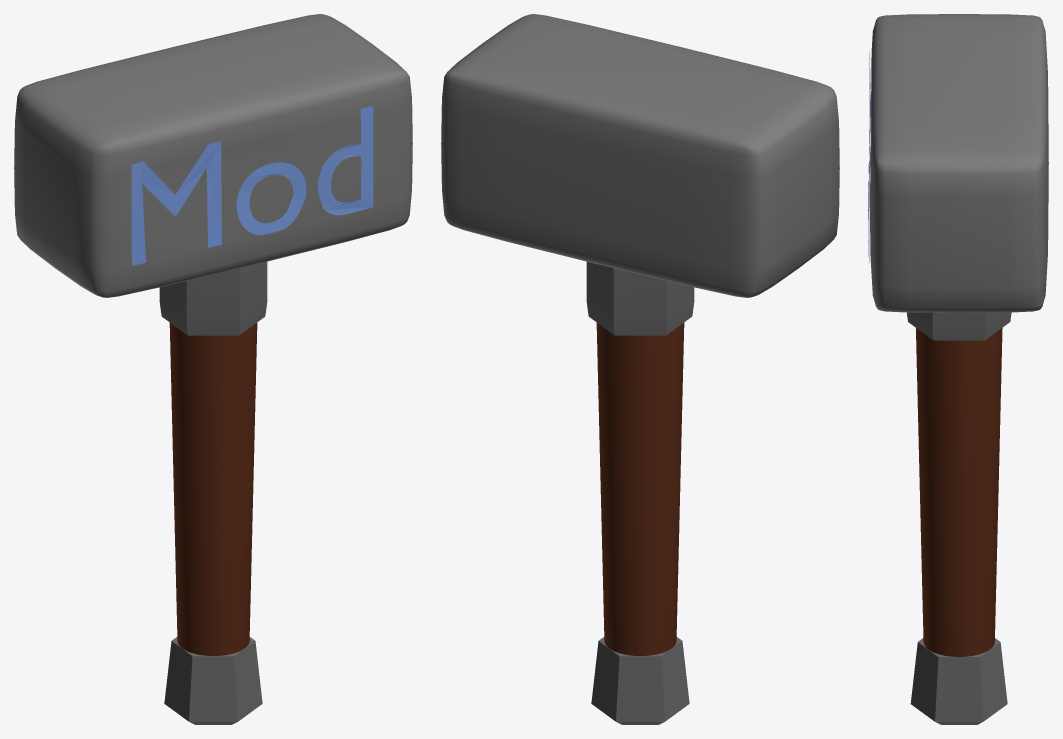
The model's file is Mod Hammer.fbx.
The picture shows the model from 3 angles, left to right: view 1: azimuth 30°, elevation 25°; view 2: azimuth 150°, elevation 25°; view 3: azimuth 270°, elevation 25°; orthographic projection.
Parts seen in each view (by area): view 1: Cube, Text; view 2: Cube; view 3: Cube, Text.
Part boxes in pixels (x1,y1,x2,y2): Cube: (14, 14, 412, 724); Text: (131, 106, 373, 265); Cube: (441, 14, 839, 724); Cube: (870, 14, 1048, 724); Text: (868, 51, 870, 263).
Size of the model in its own units: 84.15 by 156 by 40.48.
